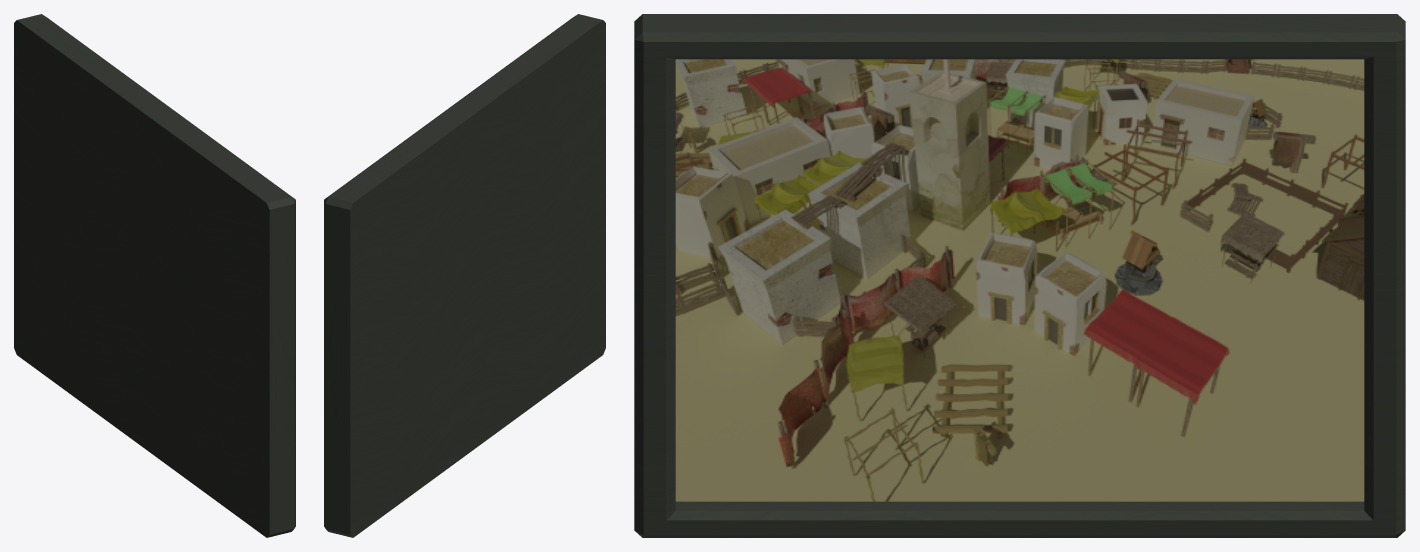
The model's file is Poster1.fbx.
3 views of the same model, side by side, from view 1: azimuth 30°, elevation 25°; view 2: azimuth 150°, elevation 25°; view 3: azimuth 270°, elevation 25° (orthographic). The views are drawn at different scales.
Visible parts, largest first — view 1: Poster1Baked; view 2: Poster1Baked; view 3: Poster1Baked.
Boxes of the visible parts, x1,y1,x2,y2 form: Poster1Baked: (14,14,295,537); Poster1Baked: (324,14,605,537); Poster1Baked: (634,14,1405,537).
Bounding box in the file's own units: 14.38 × 156 × 215.
